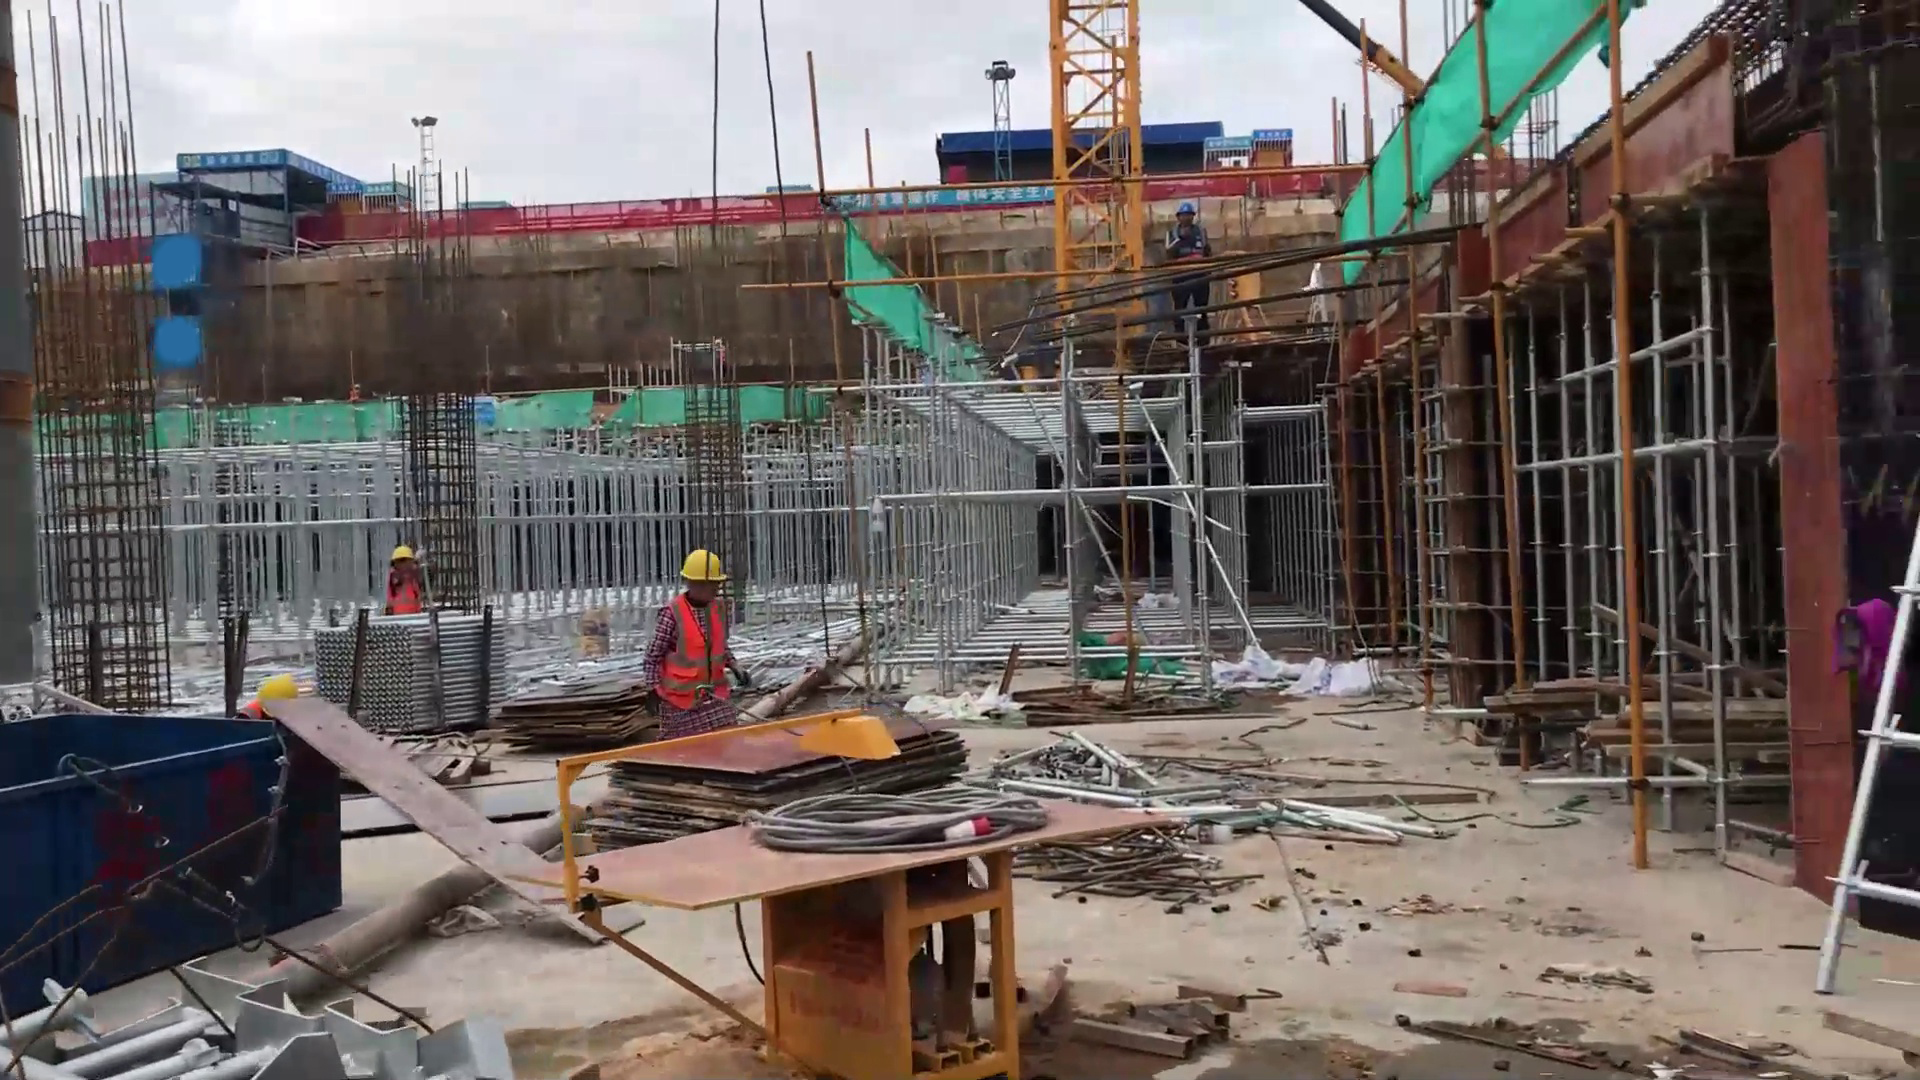board: (581, 698, 970, 855), (494, 671, 663, 748)
helmet: (251, 675, 303, 720), (672, 548, 728, 591)
hopper: (7, 705, 347, 1005)
person: (634, 550, 753, 743), (1161, 197, 1215, 337), (218, 676, 316, 724), (380, 544, 436, 622)
scaffold: (303, 610, 511, 739)
slogan: (807, 175, 1083, 221)
vest: (646, 593, 731, 715), (389, 573, 418, 616)
